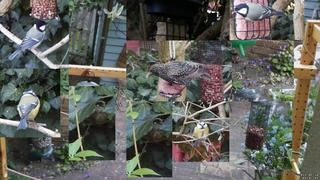blue tit: (16, 89, 40, 130), (192, 120, 209, 147)
great tit: (8, 20, 49, 61), (232, 2, 284, 21)
starling: (146, 60, 212, 86)
